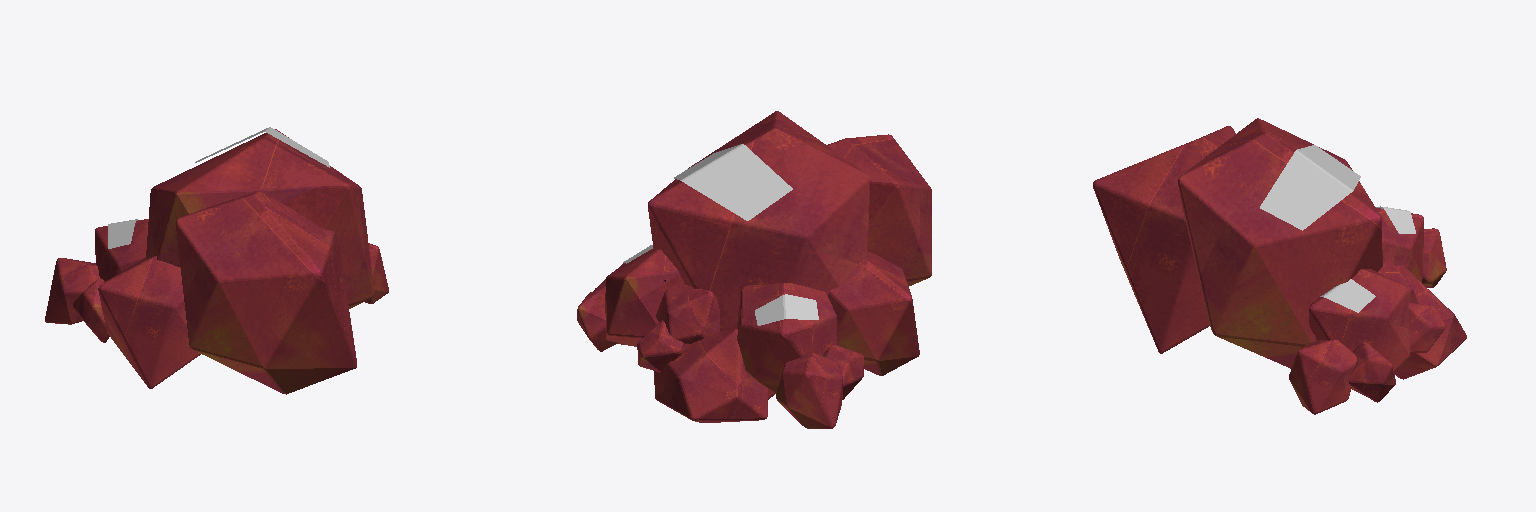
The picture shows the model from 3 angles: view 1: azimuth 30°, elevation 25°; view 2: azimuth 150°, elevation 25°; view 3: azimuth 270°, elevation 25°; orthographic projection.
Parts seen in each view (by area): view 1: TEMPLE_DECOR_ROCKS_005; view 2: TEMPLE_DECOR_ROCKS_005; view 3: TEMPLE_DECOR_ROCKS_005.
Boxes of the visible parts, <box> form: TEMPLE_DECOR_ROCKS_005: <box>45,127,388,394</box>; TEMPLE_DECOR_ROCKS_005: <box>577,111,931,428</box>; TEMPLE_DECOR_ROCKS_005: <box>1093,118,1466,414</box>.
Size of the model in its own units: 2.4 by 1.86 by 2.59.
Materials: 2 (1 with a texture image).